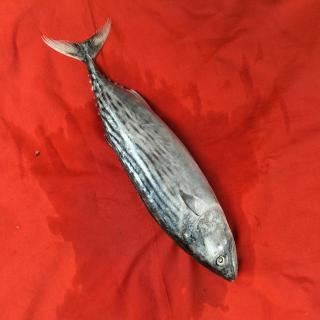Ikan: (32, 25, 260, 299)
